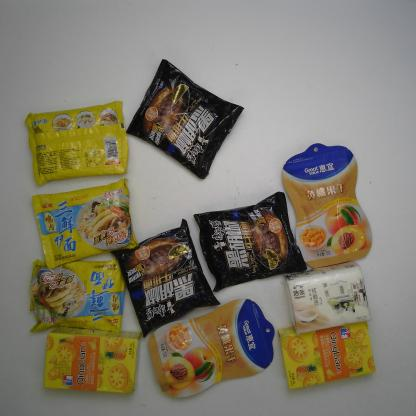Dessert: (276, 310, 376, 390), (44, 325, 142, 393)
Dried Fruit: (147, 298, 274, 398), (282, 144, 372, 267)
Instant Noodles: (126, 59, 244, 179), (110, 218, 220, 338), (193, 192, 308, 292), (30, 178, 140, 268), (24, 100, 128, 184), (29, 254, 129, 332)
Tissue: (283, 261, 372, 333)
